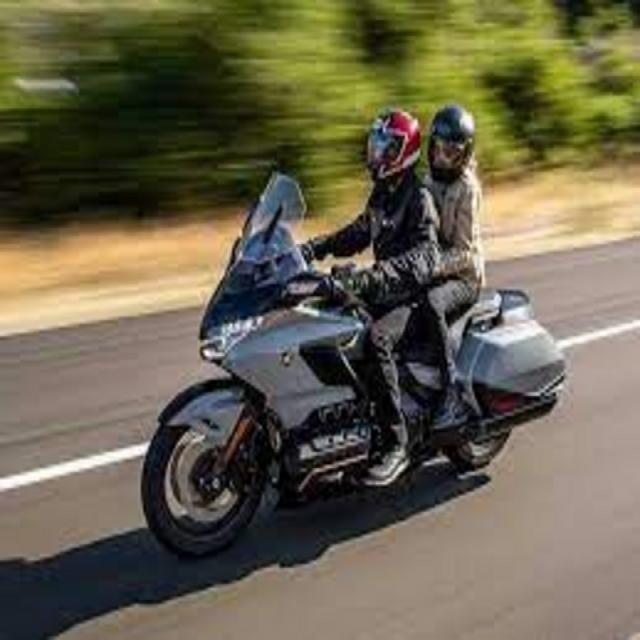not_triplets: (124, 34, 576, 545)
with-helmet: (349, 94, 427, 222), (431, 81, 488, 218)
